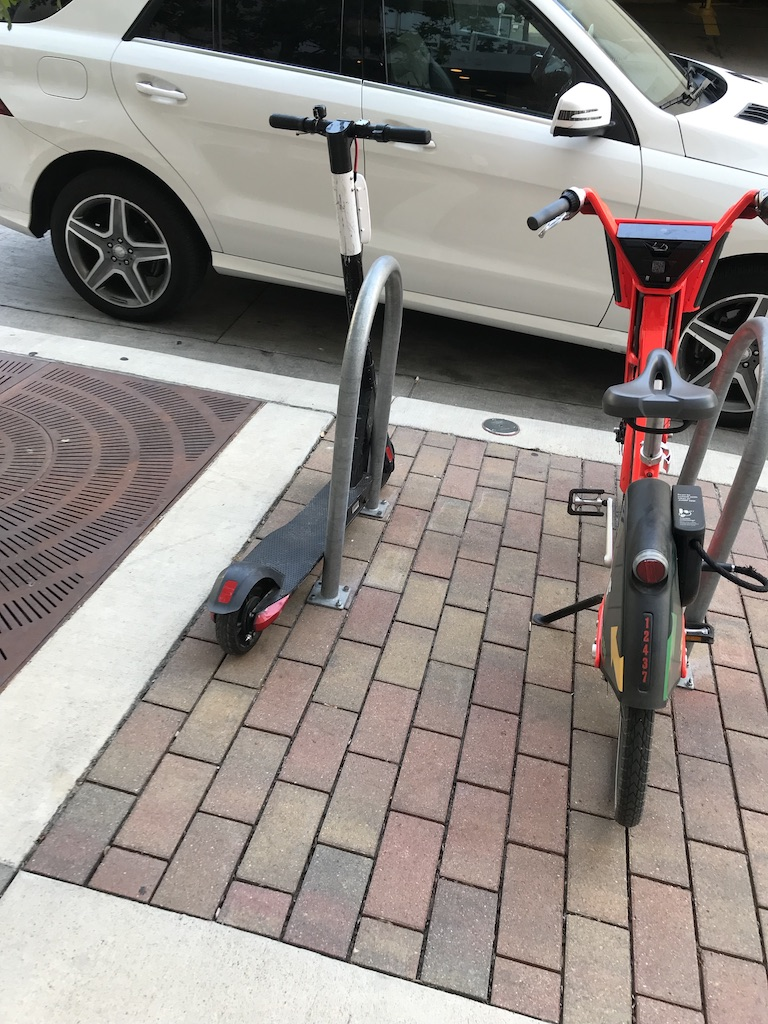scooter: (266, 105, 433, 325), (208, 479, 328, 656)
